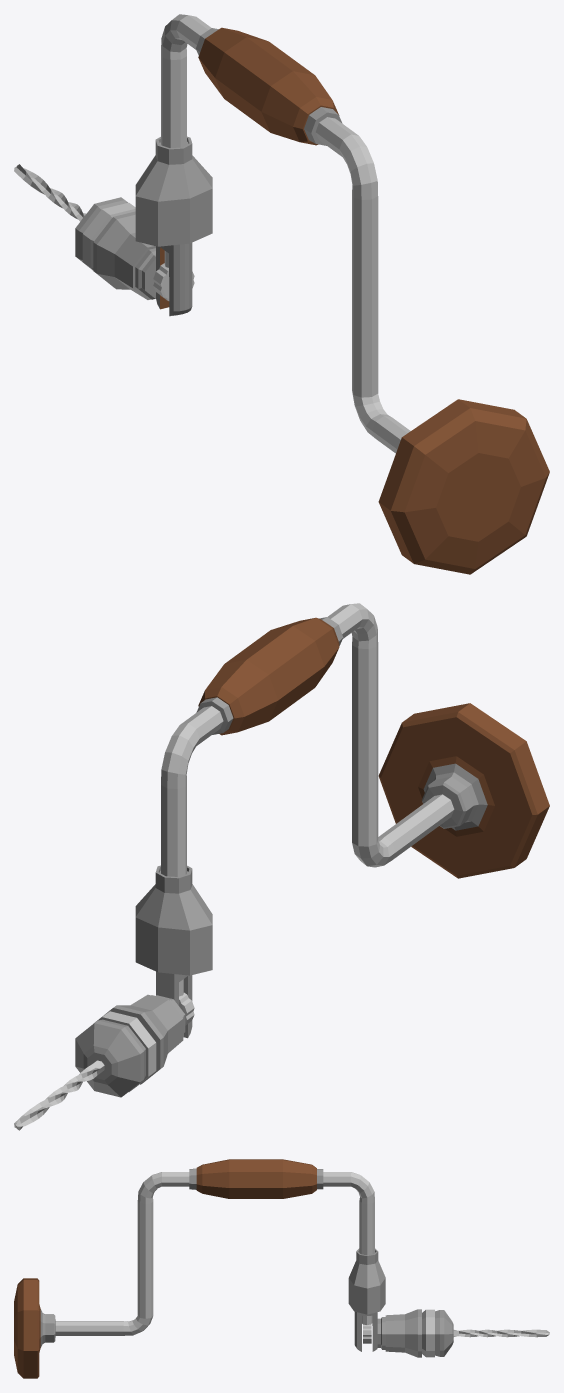
The model's file is brace01.obj.
The picture shows the model from 3 angles, top to bottom: view 1: azimuth 30°, elevation 25°; view 2: azimuth 150°, elevation 25°; view 3: azimuth 270°, elevation 25°; orthographic projection. The views are drawn at different scales.
Parts seen in each view (by area): view 1: Cylinder.002_Cylinder.003; view 2: Cylinder.002_Cylinder.003; view 3: Cylinder.002_Cylinder.003.
Part boxes in pixels (x1,y1,x2,y2): Cylinder.002_Cylinder.003: (14, 14, 549, 574); Cylinder.002_Cylinder.003: (14, 603, 549, 1130); Cylinder.002_Cylinder.003: (14, 1159, 549, 1378).
Size of the model in its own units: 0.1123 by 0.2518 by 0.5641.
Materials: 1 (1 with a texture image).
